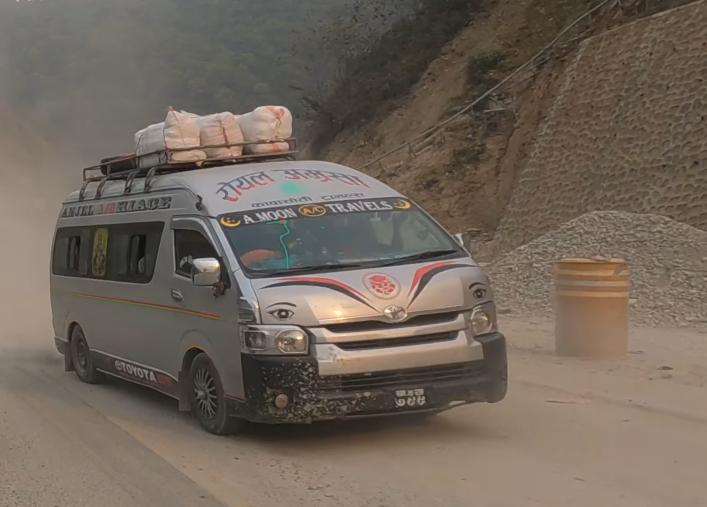micro_bus: (33, 137, 513, 442)
